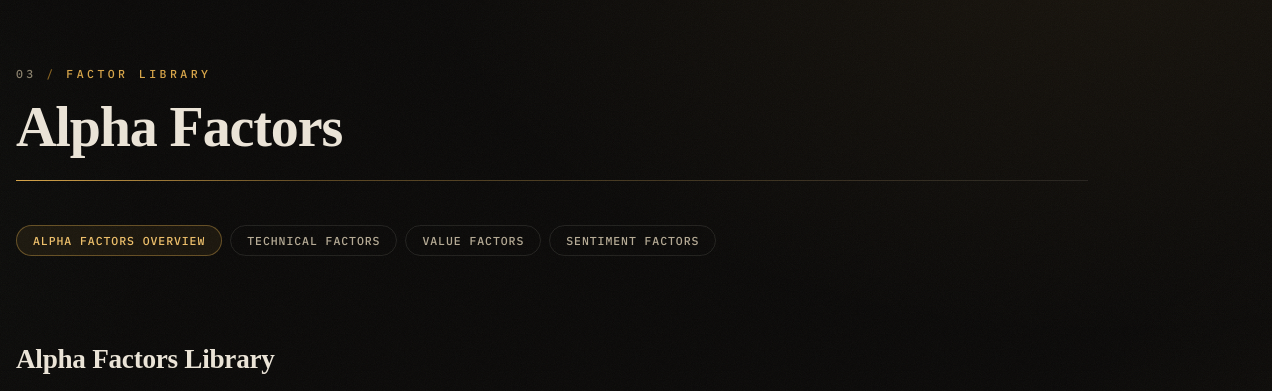
Scenario: AlphaPage › fetches and renders another doc when its tab is clicked
Expected: the heading "Alpha Factors Library" is shown, 16,344 -> 275,374
Step 1. Click the button "Technical Factors" → click(314, 241), box 230,225 -> 397,256
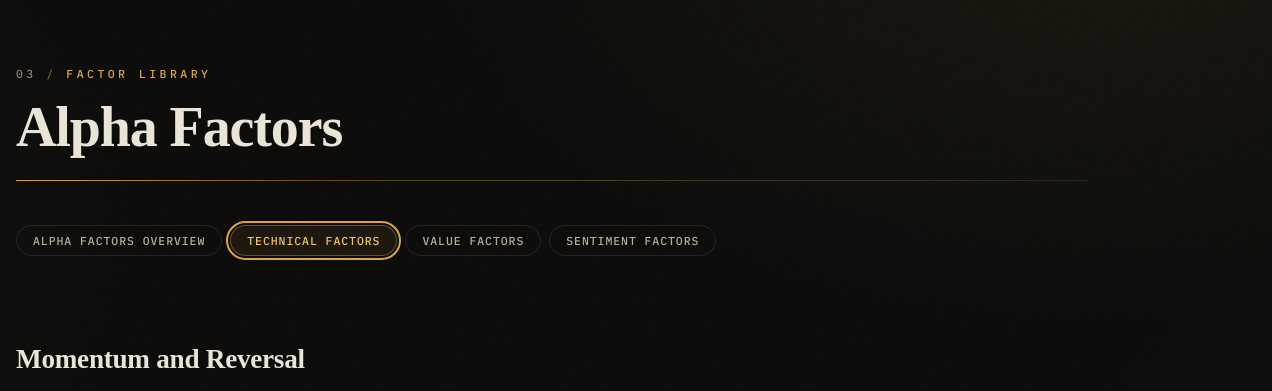
Now the heading "Momentum and Reversal" is shown, box 16,344 -> 305,374
